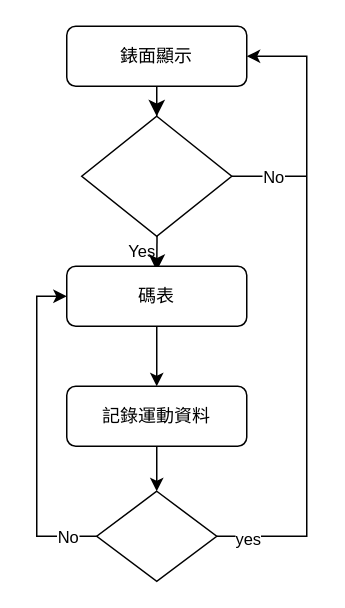
This 345x608 diagram has some shape labels left out. Here are the shapes that lost their labels. From the top down, the box of each, then its label:
(80, 115, 232, 236): 傾斜進入 碼表模式
(95, 490, 217, 581): 是否結束記錄
